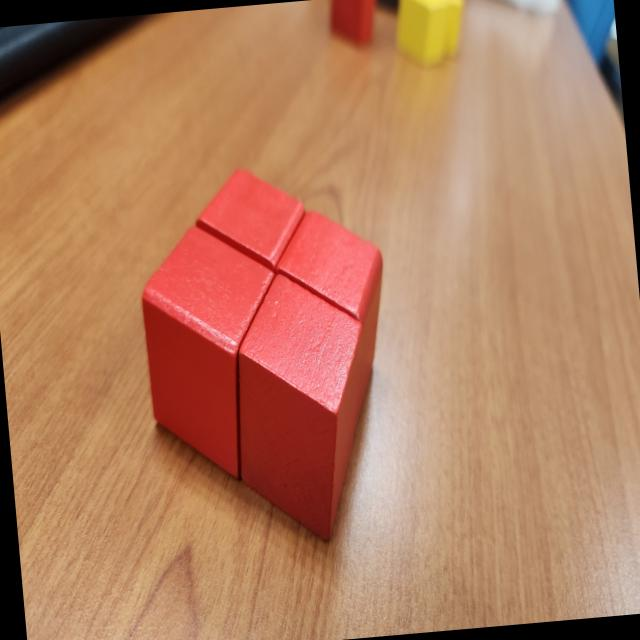red: (222, 266, 382, 550), (134, 218, 294, 488), (268, 203, 398, 441), (192, 162, 310, 280), (324, 0, 379, 49)
yellow: (389, 0, 453, 70), (439, 0, 467, 55)
